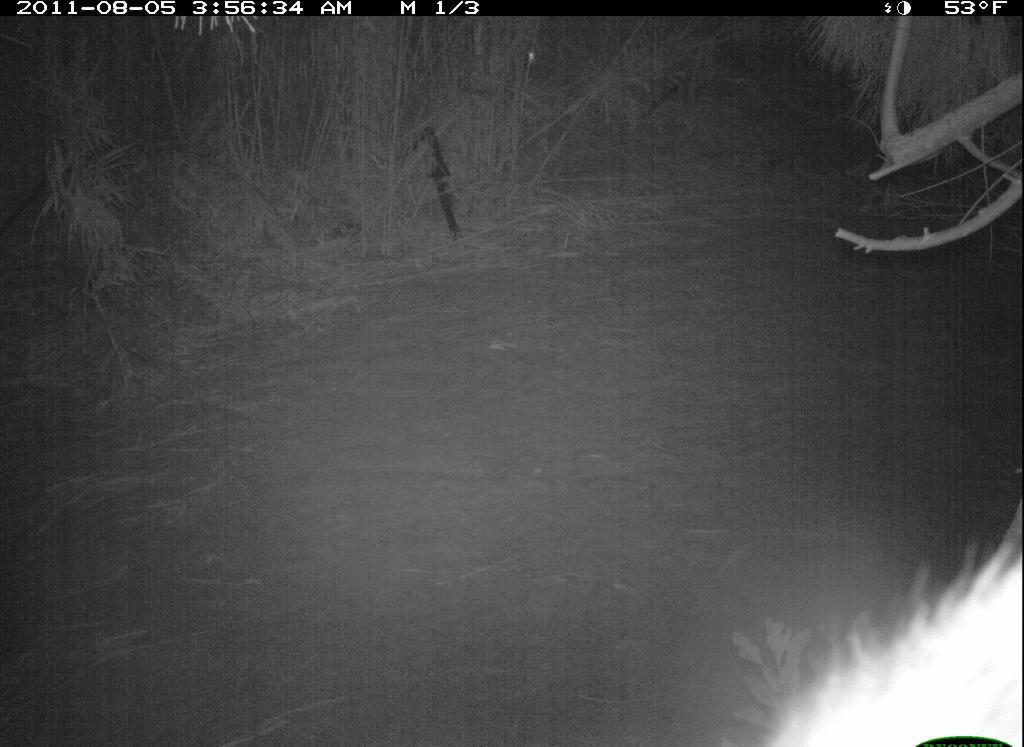raccoon: (735, 498, 1021, 747)
